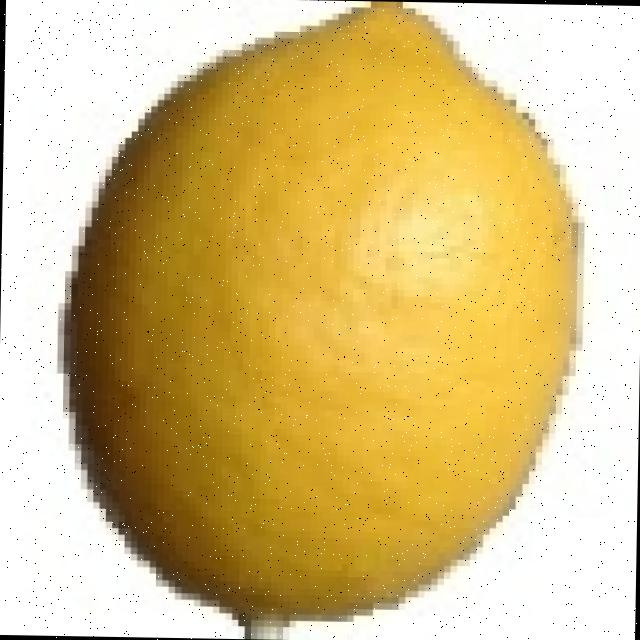lemon: (65, 1, 575, 627)
